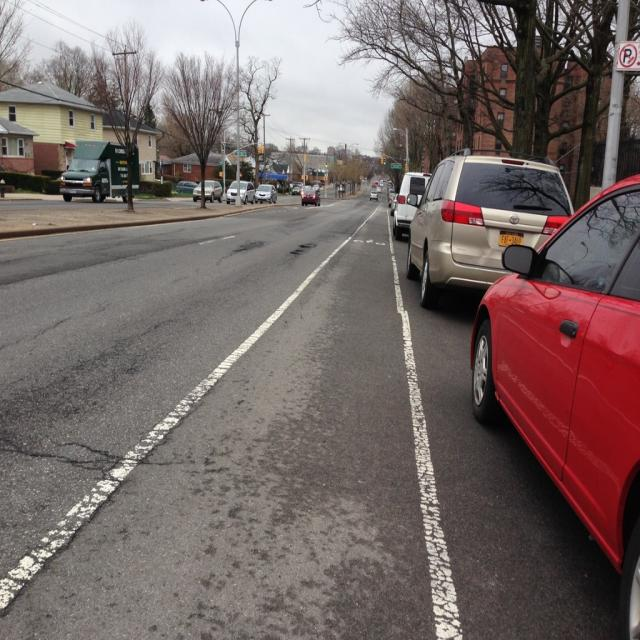car: (254, 181, 277, 202), (300, 185, 319, 204), (368, 190, 378, 199), (290, 186, 300, 194)
